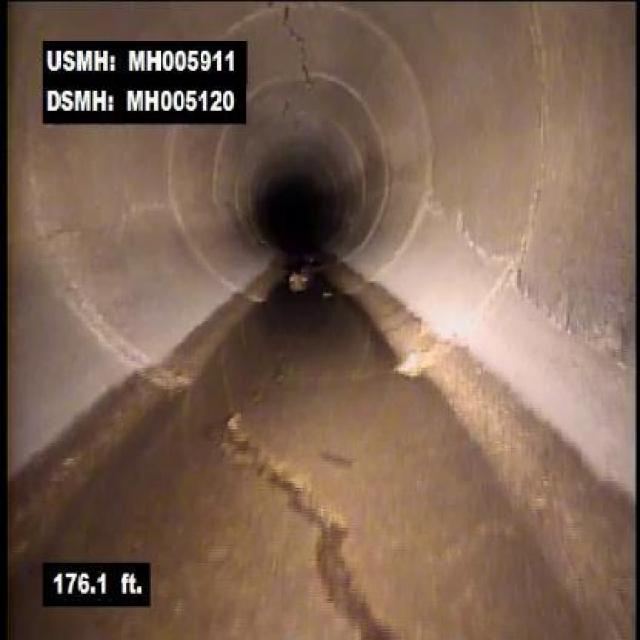Crack: (196, 408, 467, 632), (59, 168, 188, 255), (520, 268, 623, 369), (436, 195, 502, 272)
